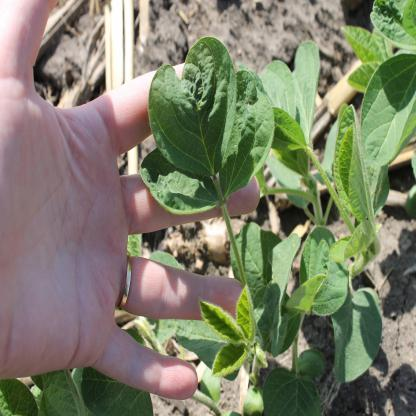Soyabean leaf: (148, 34, 238, 177)
